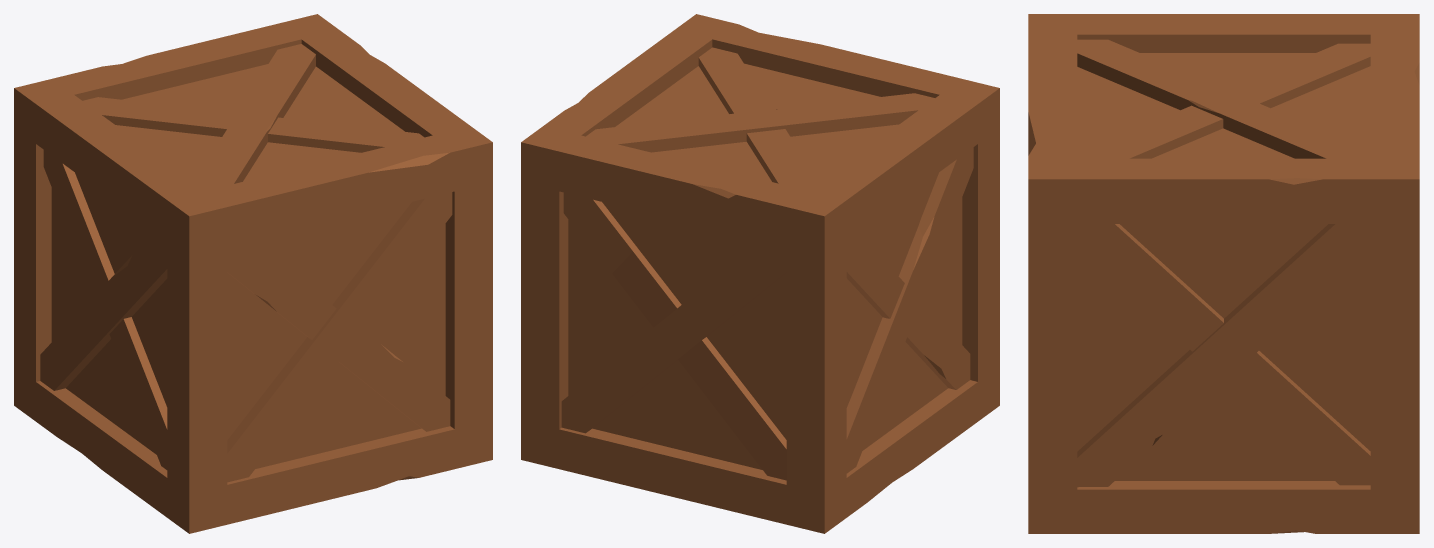
Rendered from Crate_Large.fbx.
3 renders of one model, left to right at view 1: azimuth 30°, elevation 25°; view 2: azimuth 150°, elevation 25°; view 3: azimuth 270°, elevation 25°, orthographic. The views are drawn at different scales.
Visible parts, largest first — view 1: Cube; view 2: Cube; view 3: Cube.
Part boxes in pixels (x1=…): Cube: x1=14, y1=14, x2=492, y2=533; Cube: x1=521, y1=14, x2=999, y2=533; Cube: x1=1028, y1=14, x2=1419, y2=533.
Bounding box in the file's own units: 200 × 200 × 200.
